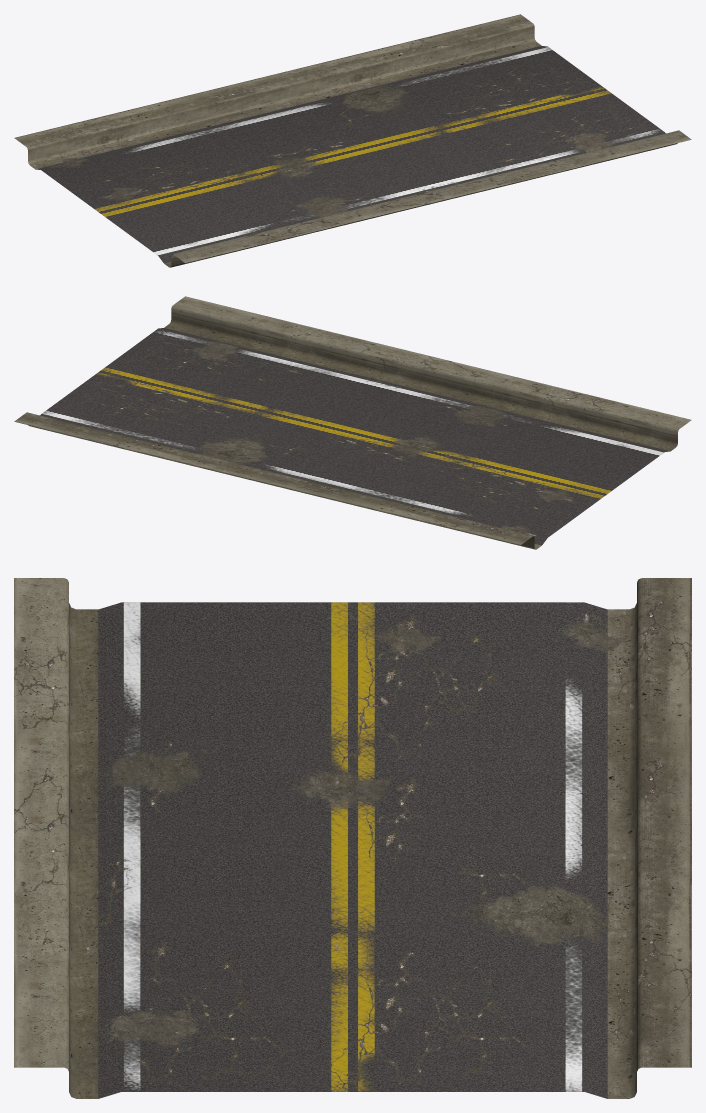
The picture shows the model from 3 angles, top to bottom: view 1: azimuth 30°, elevation 25°; view 2: azimuth 150°, elevation 25°; view 3: azimuth 270°, elevation 25°; orthographic projection. The views are drawn at different scales.
Visible parts, largest first — view 1: Plane; view 2: Plane; view 3: Plane.
Part boxes in pixels (x1=…): Plane: x1=14, y1=14, x2=691, y2=267; Plane: x1=14, y1=296, x2=691, y2=549; Plane: x1=14, y1=578, x2=691, y2=1098.
Size of the model in its own units: 7.25 by 0.2172 by 4.24.
1 material, 1 textured.
